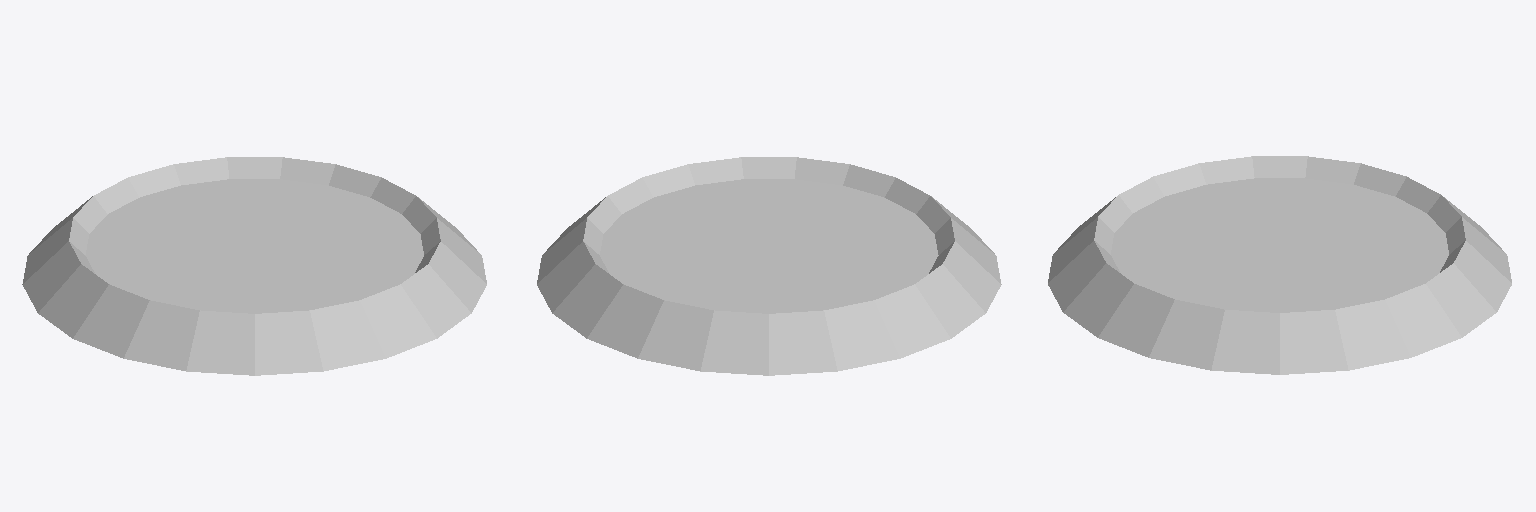
File: hole.obj
The picture shows the model from 3 angles: view 1: azimuth 30°, elevation 25°; view 2: azimuth 150°, elevation 25°; view 3: azimuth 270°, elevation 25°; orthographic projection.
Parts seen in each view (by area): view 1: Circle_Circle.001; view 2: Circle_Circle.001; view 3: Circle_Circle.001.
Boxes of the visible parts, x1=… form: Circle_Circle.001: x1=22, y1=157, x2=486, y2=375; Circle_Circle.001: x1=537, y1=157, x2=1001, y2=375; Circle_Circle.001: x1=1048, y1=156, x2=1511, y2=374.
Size of the model in its own units: 2.83 by 0.2841 by 2.83.